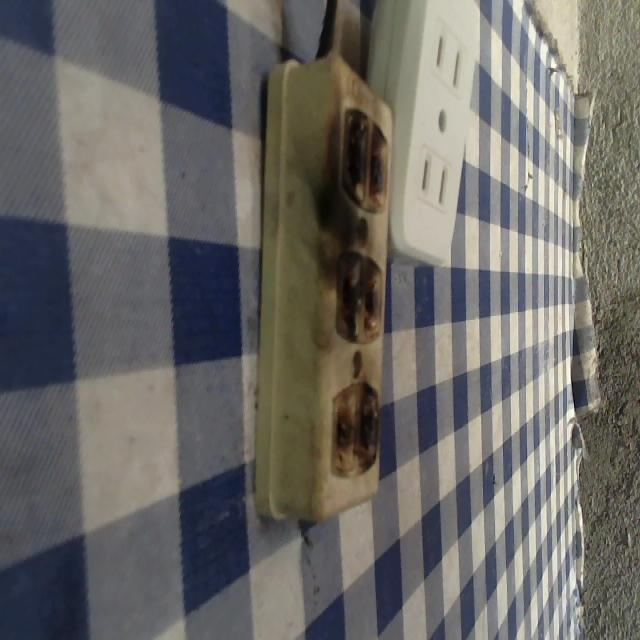-: (330, 105, 393, 211), (323, 380, 381, 493), (327, 247, 386, 352)
